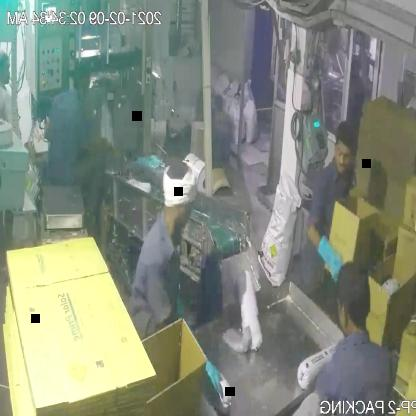glove: (190, 348, 231, 405), (311, 232, 349, 289)
